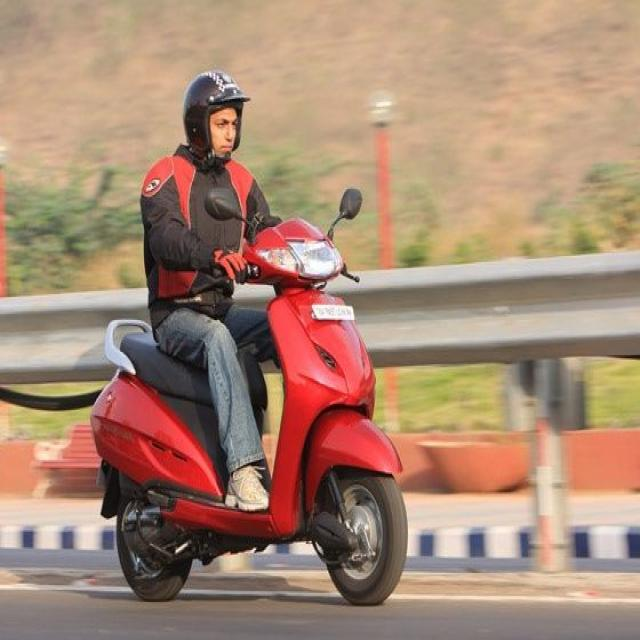motorcycle: (91, 75, 408, 605)
